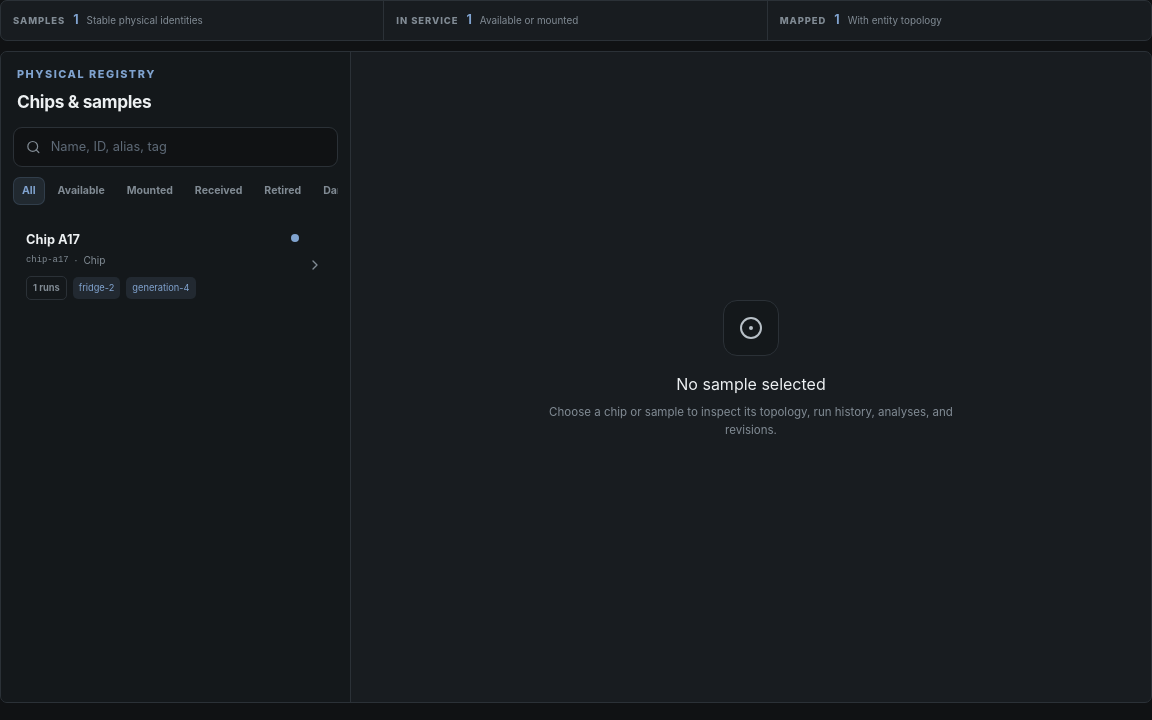
SamplesWorkspace › filters the registry by sample metadata
expect the text "Chip A17" is shown: met, box x1=26 y1=230 x2=80 y2=249
Type "unrelated" into the search field named "Search samples".
click(188, 147); type("unrelated")  # box x1=51 y1=137 x2=325 y2=157
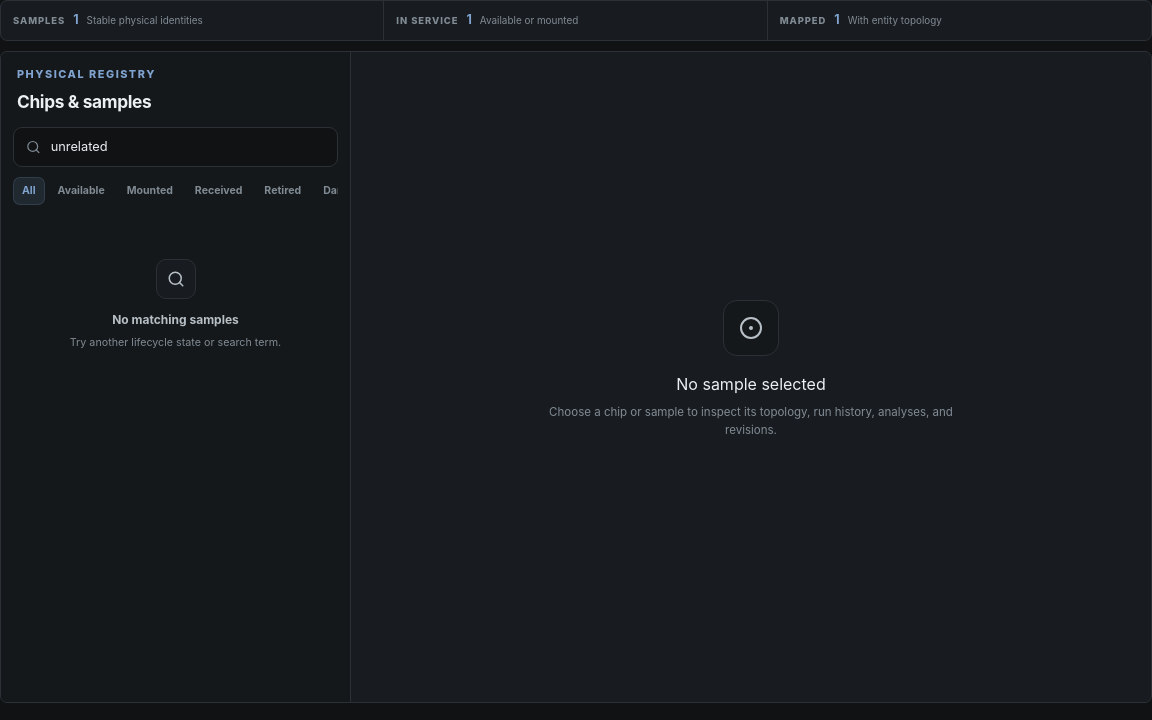
expect the text "No matching samples" is shown: met, box x1=112 y1=311 x2=239 y2=329
